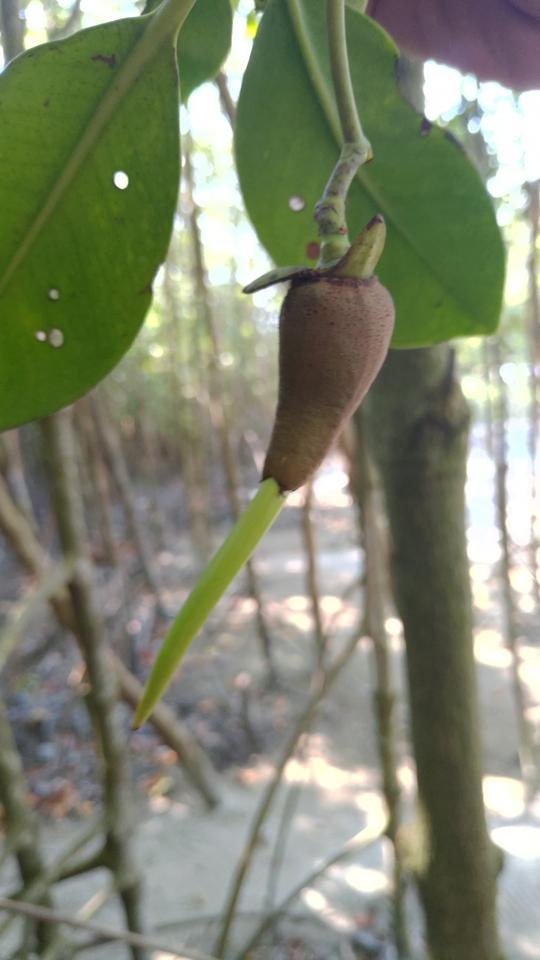mentah: (113, 200, 413, 755)
